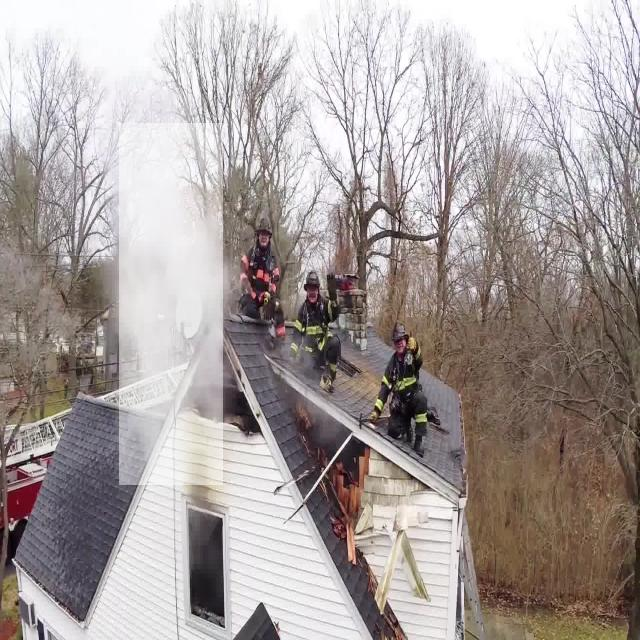Smoke: (119, 123, 223, 485)
